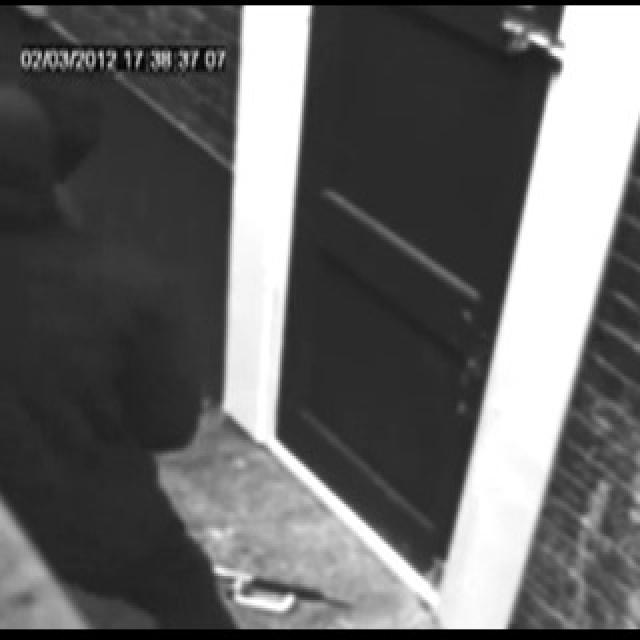thief: (0, 72, 100, 243)
